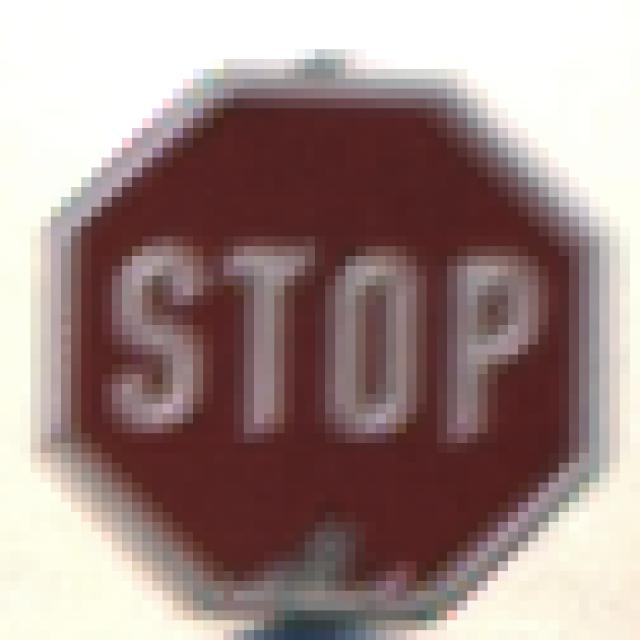STOP: (62, 50, 590, 582)
